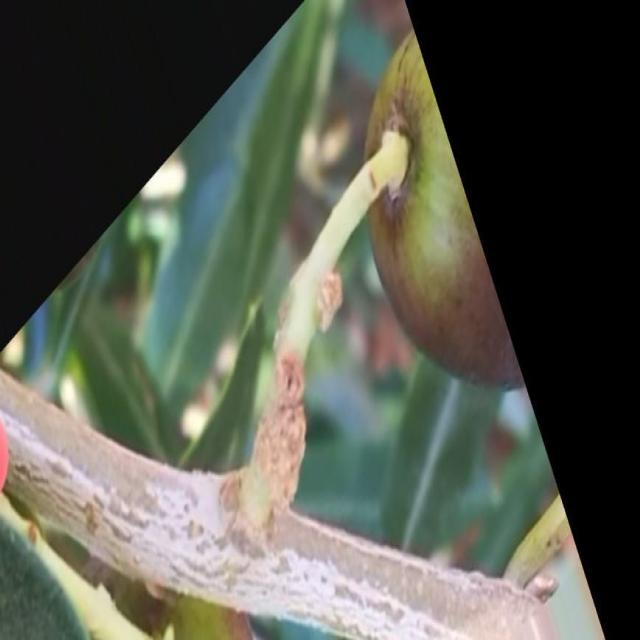Tuberculosis: (248, 352, 306, 550), (316, 269, 342, 331)
